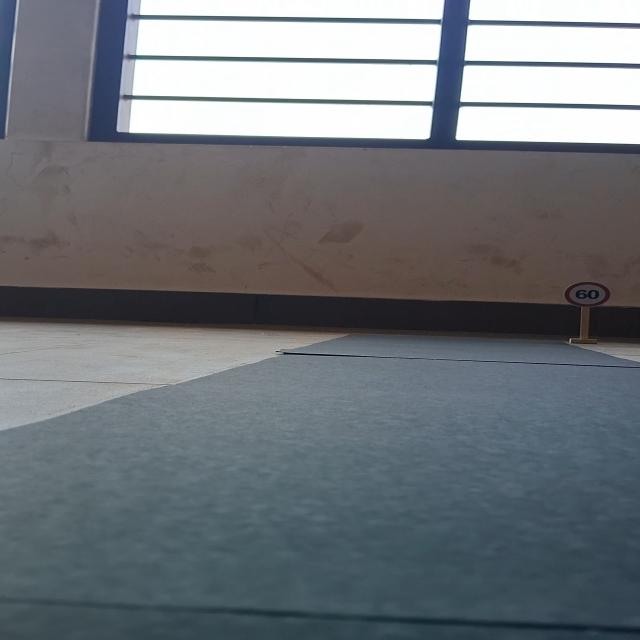Speed60: (559, 278, 613, 308)
